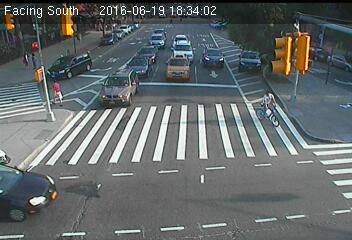neg: (17, 100, 39, 129), (102, 120, 117, 140), (38, 34, 52, 54), (100, 32, 112, 46), (75, 53, 84, 64)
pos: (45, 78, 64, 103), (26, 51, 41, 71), (17, 50, 31, 68), (74, 29, 86, 46)
